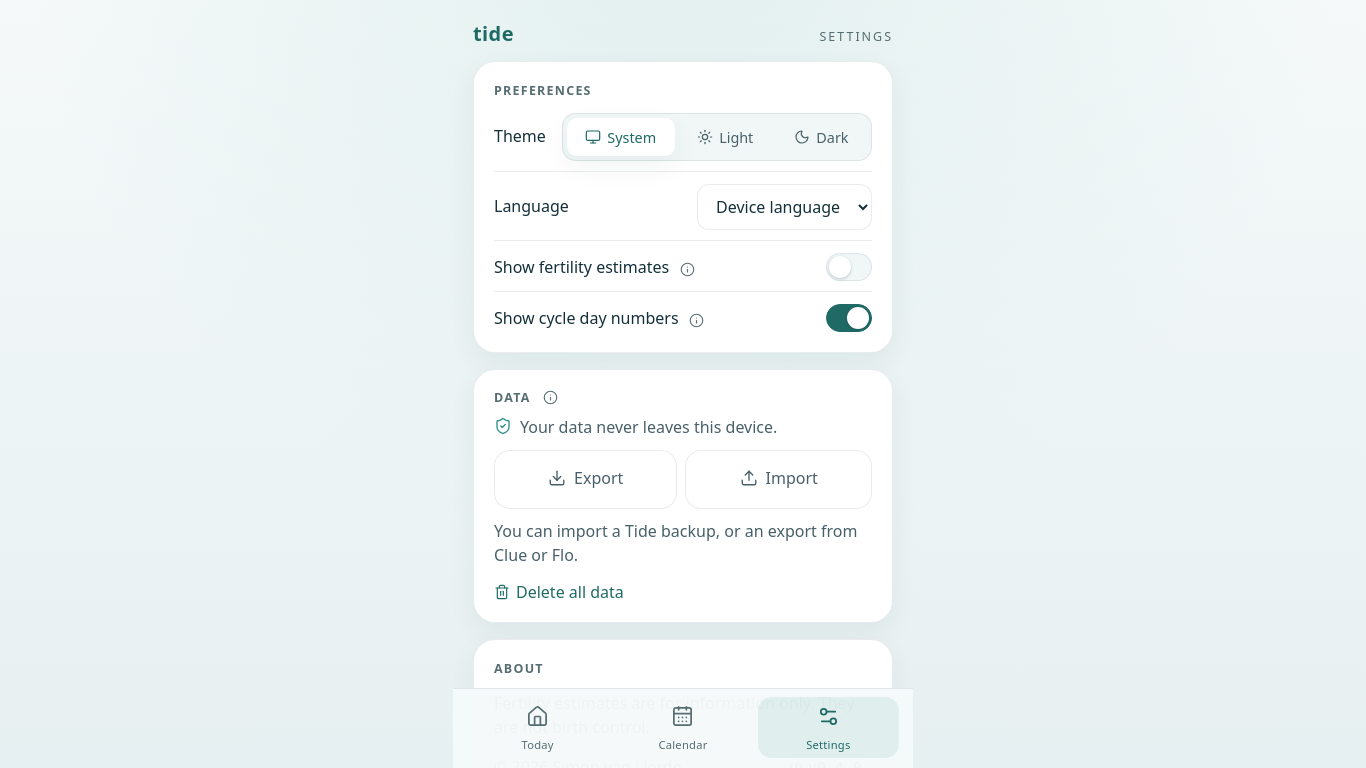
it: App shell › navigates between screens through the app shell links
Click the link "Calendar" at [683, 728], box [658,705,708,752]
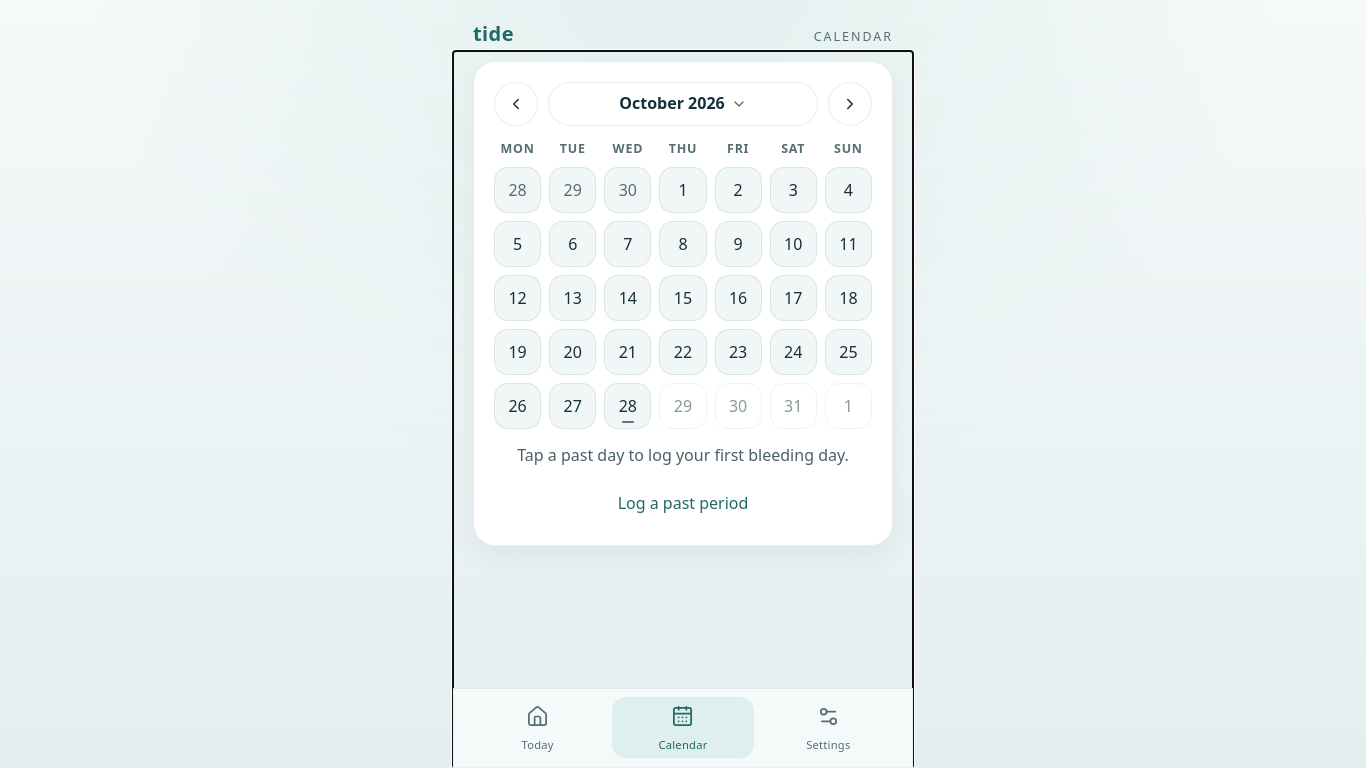
Expected: the text "Calendar" in the row of "tide" is shown, [814,28,893,45]
